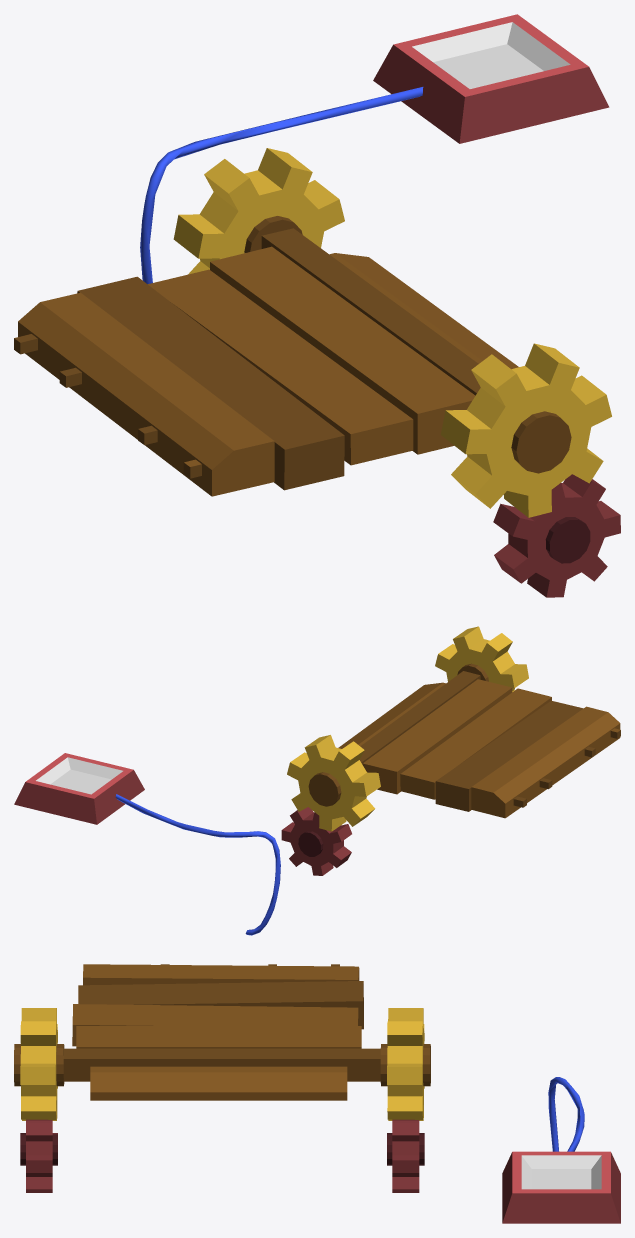
Rendered from smallBridge.fbx.
3 renders of one model, top to bottom at view 1: azimuth 30°, elevation 25°; view 2: azimuth 150°, elevation 25°; view 3: azimuth 270°, elevation 25°, orthographic. The views are drawn at different scales.
Visible parts, largest first — view 1: Cube, Cube.001, Cylinder, Cylinder.002, Cylinder.001, Cube.003, NurbsPath; view 2: Cube, Cube.001, Cylinder.002, Cylinder, Cylinder.003, NurbsPath, Cube.003; view 3: Cube, Cube.003, Cube.001, Cylinder.002, Cylinder, Cylinder.003, Cylinder.001, NurbsPath.
Part boxes in pixels (left/top/right/bottom): Cube: left=14, top=228, right=480, bottom=496; Cube.001: left=373, top=14, right=609, bottom=143; Cylinder: left=440, top=343, right=611, bottom=517; Cylinder.002: left=173, top=148, right=344, bottom=274; Cylinder.001: left=493, top=474, right=620, bottom=597; Cube.003: left=329, top=253, right=518, bottom=369; NurbsPath: left=140, top=87, right=423, bottom=284; Cube: left=359, top=671, right=620, bottom=818; Cube.001: left=14, top=753, right=144, bottom=824; Cylinder.002: left=287, top=735, right=380, bottom=831; Cylinder: left=435, top=626, right=528, bottom=691; Cylinder.003: left=281, top=807, right=351, bottom=875; NurbsPath: left=115, top=794, right=280, bottom=935; Cube.003: left=338, top=682, right=445, bottom=748; Cube: left=63, top=964, right=380, bottom=1081; Cube.003: left=90, top=1066, right=347, bottom=1100; Cube.001: left=502, top=1151, right=620, bottom=1223; Cylinder.002: left=380, top=1008, right=430, bottom=1120; Cylinder: left=14, top=1008, right=64, bottom=1120; Cylinder.003: left=387, top=1119, right=424, bottom=1192; Cylinder.001: left=20, top=1119, right=57, bottom=1192; NurbsPath: left=548, top=1077, right=584, bottom=1151.
Bounding box in the file's own units: 1761 × 647 × 1889.
Materials: 2 (1 with a texture image).
